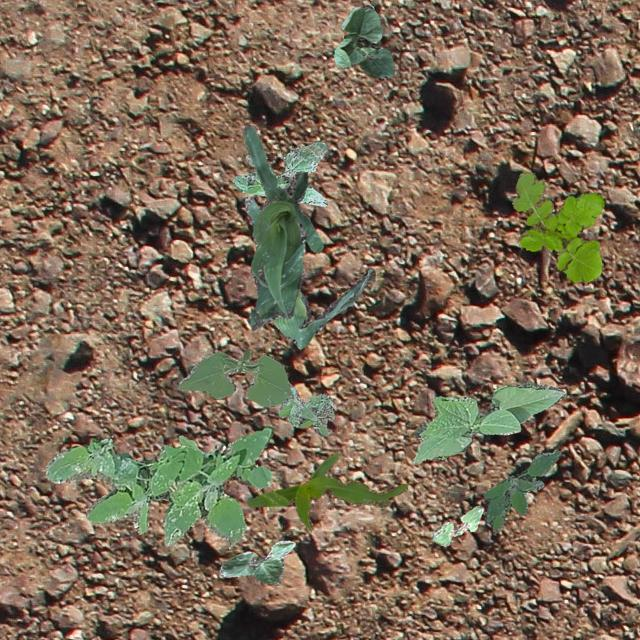crop: (244, 195, 374, 348), (242, 123, 322, 330), (412, 379, 564, 464), (246, 450, 407, 530), (176, 348, 294, 406), (332, 4, 392, 78), (218, 540, 294, 584), (430, 504, 482, 544)
weed: (45, 424, 272, 548), (512, 170, 604, 282), (482, 448, 558, 532), (230, 140, 326, 206), (278, 386, 332, 436), (178, 434, 198, 450)
